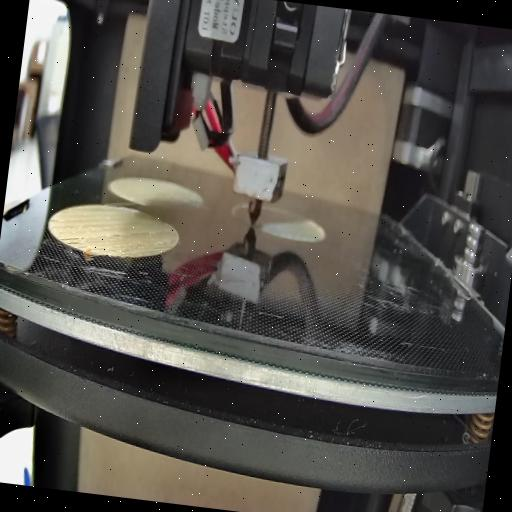under_extrusion: (126, 227, 166, 242), (59, 233, 89, 252), (110, 244, 141, 260), (96, 230, 122, 242), (152, 244, 175, 256), (89, 245, 108, 258)
